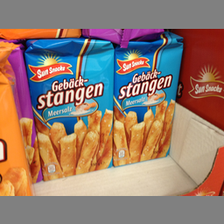chips: (24, 38, 116, 181), (114, 39, 181, 165)
